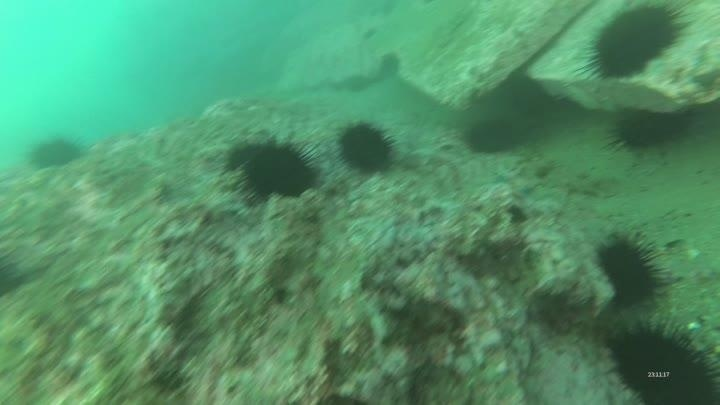echinus: (603, 317, 718, 404), (580, 2, 691, 83), (224, 132, 323, 205), (593, 229, 669, 311), (605, 105, 696, 157), (333, 117, 400, 178), (462, 115, 522, 158), (26, 133, 85, 173), (376, 50, 404, 80)
